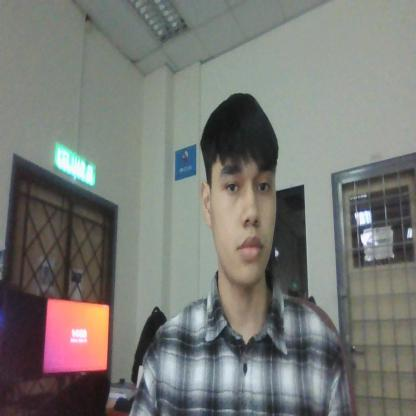Open-Eyes: (219, 162, 276, 204)
